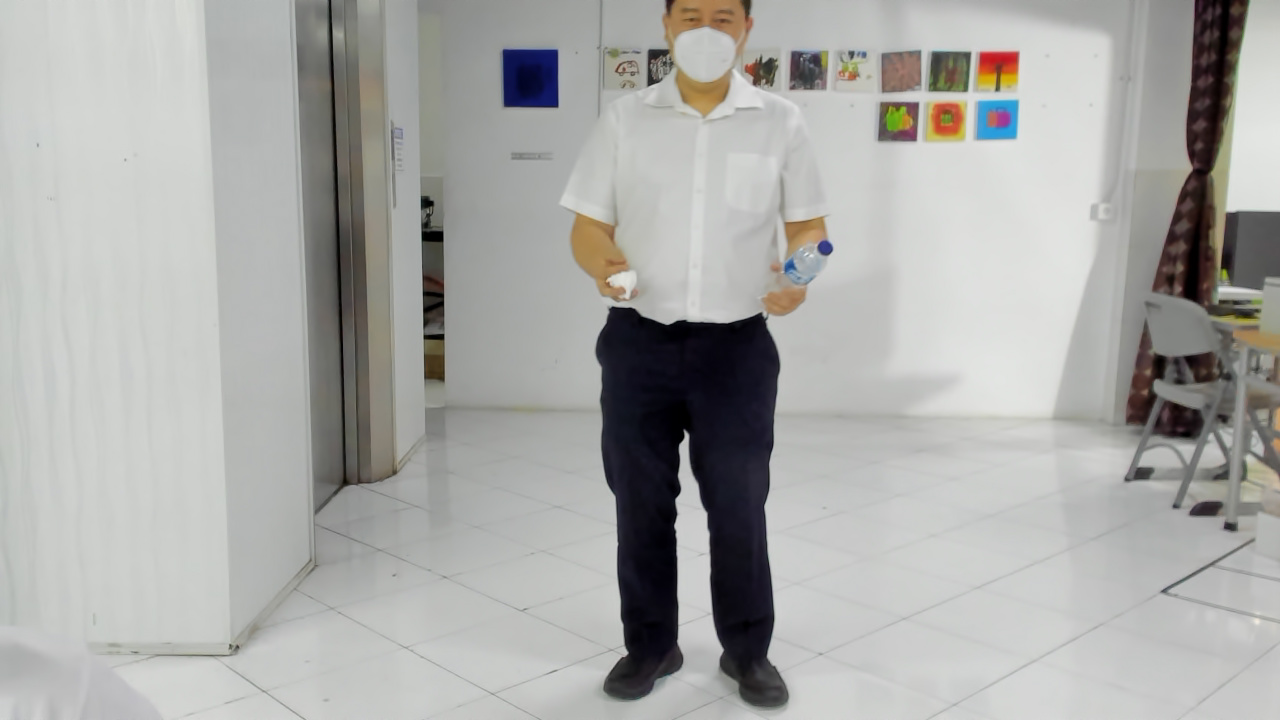Bottle: (764, 243, 841, 308)
bg: (9, 12, 580, 690), (830, 6, 1185, 690), (604, 267, 659, 310)
